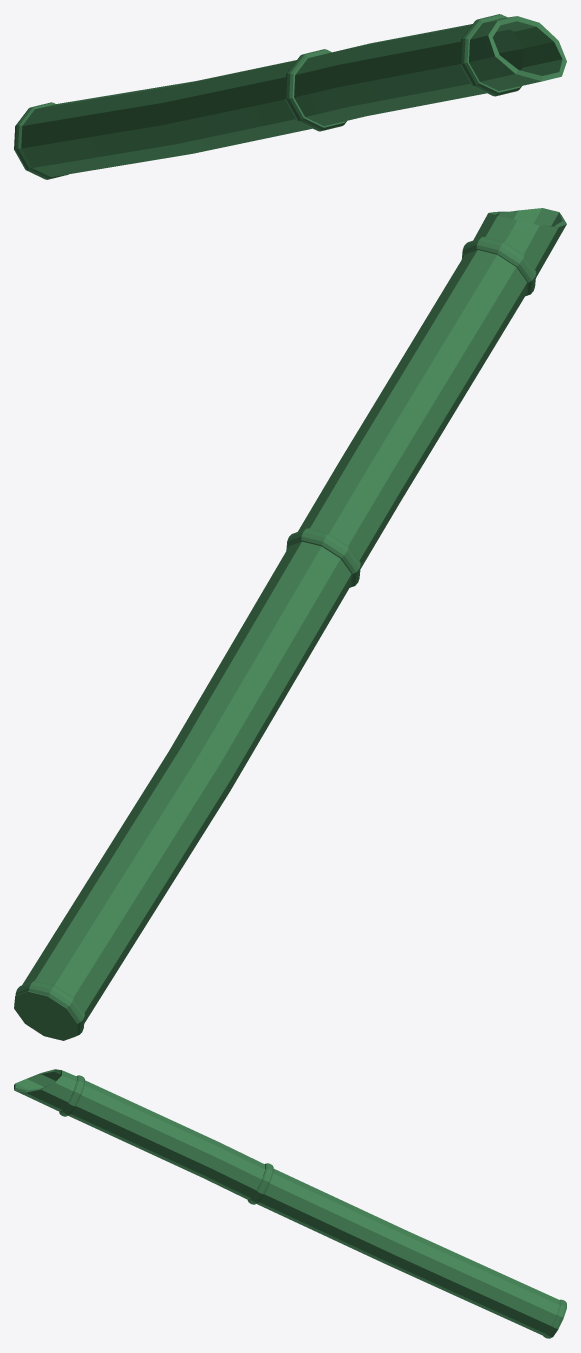
Rendered from deerScarer.fbx.
The picture shows the model from 3 angles, top to bottom: view 1: azimuth 30°, elevation 25°; view 2: azimuth 150°, elevation 25°; view 3: azimuth 270°, elevation 25°; orthographic projection. The views are drawn at different scales.
Visible parts, largest first — view 1: deerScarer; view 2: deerScarer; view 3: deerScarer.
Boxes of the visible parts, x1,y1,x2,y2 form: deerScarer: [14, 14, 566, 179]; deerScarer: [14, 208, 566, 1040]; deerScarer: [14, 1069, 566, 1338].
Bounding box in the file's own units: 0.0436 × 0.2822 × 0.5372.
